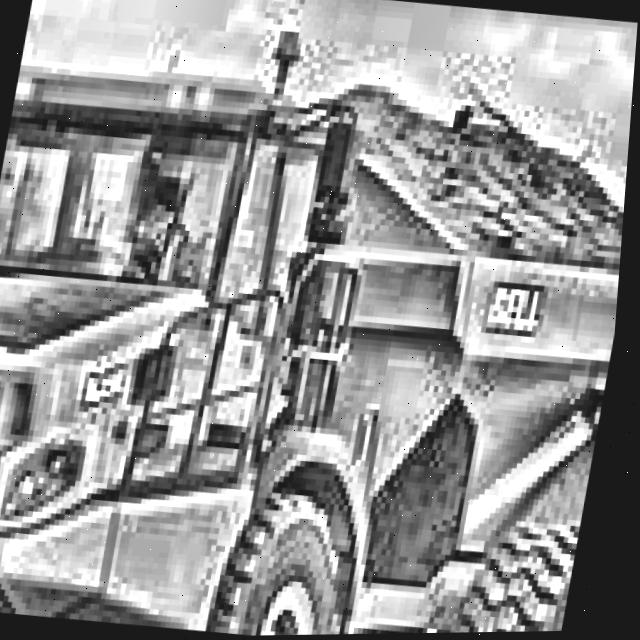dump_truck: (0, 1, 640, 640)
